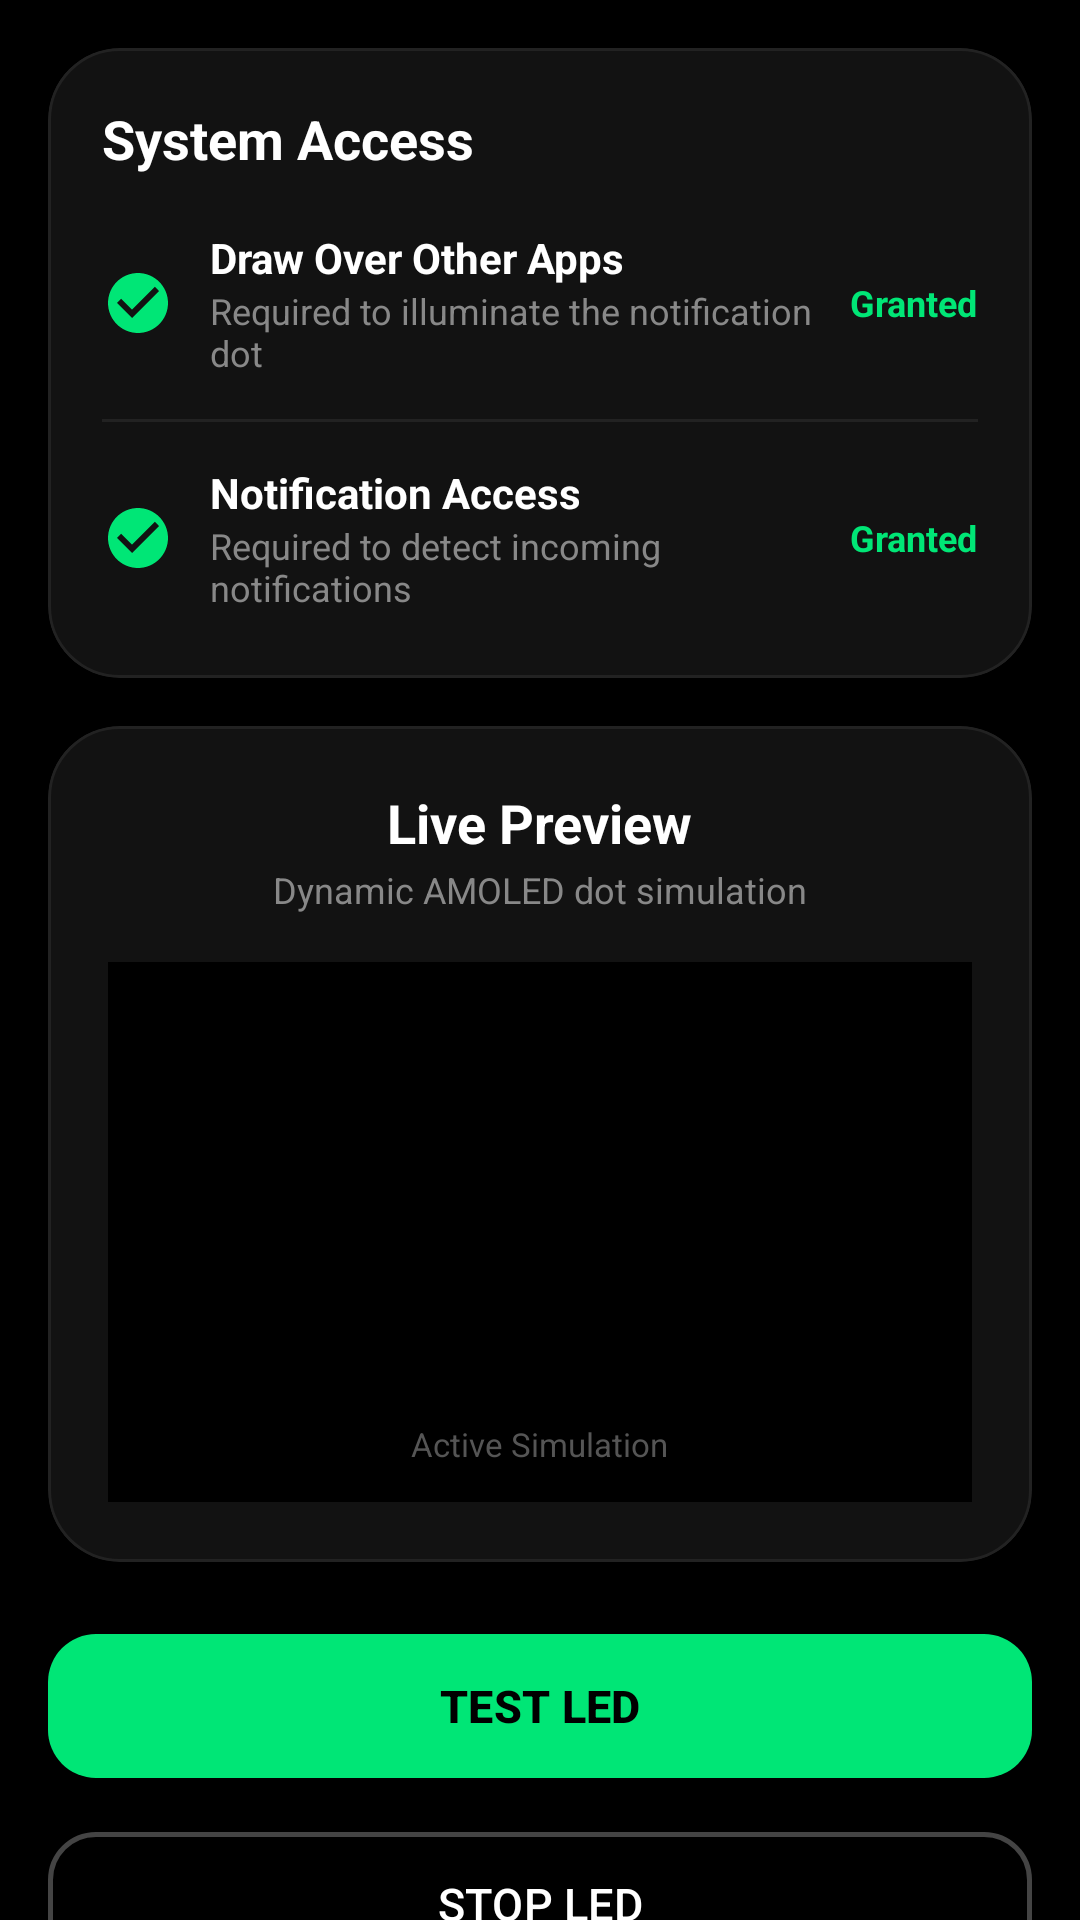

Where icons sit on this 1080 x 1920 app screen, as box=[x1, y1, x2, y2]:
check circle: box=[108, 273, 168, 333], box=[108, 508, 168, 568]
